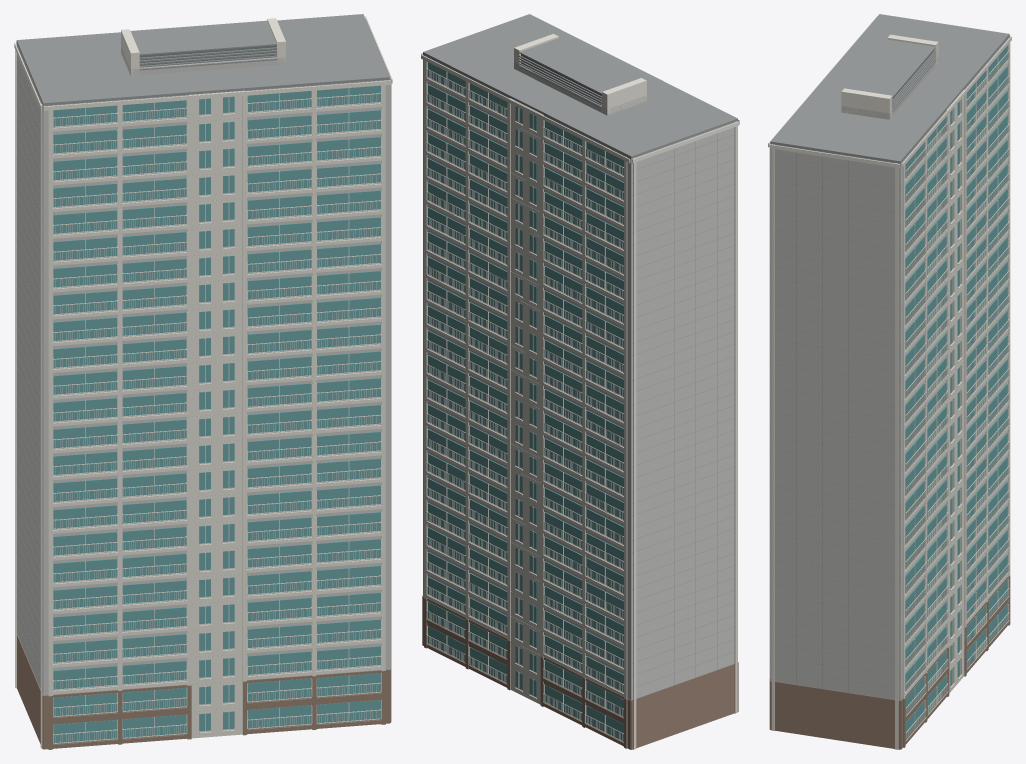
The model's file is bespoke-jamsil-els-109.glb.
The picture shows the model from 3 angles, left to right: view 1: azimuth 30°, elevation 25°; view 2: azimuth 150°, elevation 25°; view 3: azimuth 270°, elevation 25°; orthographic projection. The views are drawn at different scales.
Parts seen in each view (by area): view 1: Els109_editable_Els109_turquoise_balcony_glazing002, Els109_editable_Els109_light_grey_solid_wall002, Els109_white_exact_chunk_2, Els109_white_exact_chunk_3, Els109_white_exact_chunk_1, Els109_editable_Els109_modest_grey_flat_roof_caps002, Els109_editable_Els109_muted_ground_wall002, Els109_editable_Els109_narrow_charcoal_service_strips002; view 2: Els109_editable_Els109_light_grey_solid_wall002, Els109_editable_Els109_turquoise_balcony_glazing002, Els109_white_exact_chunk_0, Els109_white_exact_chunk_1, Els109_editable_Els109_modest_grey_flat_roof_caps002, Els109_editable_Els109_muted_ground_wall002, Els109_white_exact_chunk_3, Els109_editable_Els109_narrow_charcoal_service_strips002; view 3: Els109_editable_Els109_light_grey_solid_wall002, Els109_editable_Els109_turquoise_balcony_glazing002, Els109_white_exact_chunk_0, Els109_editable_Els109_modest_grey_flat_roof_caps002, Els109_white_exact_chunk_1, Els109_editable_Els109_muted_ground_wall002, Els109_white_exact_chunk_3.
Part boxes in pixels (x1,y1,x2,y2): Els109_editable_Els109_turquoise_balcony_glazing002: [53, 85, 380, 743]; Els109_editable_Els109_light_grey_solid_wall002: [16, 43, 390, 711]; Els109_white_exact_chunk_2: [48, 95, 312, 738]; Els109_white_exact_chunk_3: [43, 16, 392, 734]; Els109_white_exact_chunk_1: [14, 42, 244, 748]; Els109_editable_Els109_modest_grey_flat_roof_caps002: [16, 14, 390, 689]; Els109_editable_Els109_muted_ground_wall002: [17, 633, 390, 749]; Els109_editable_Els109_narrow_charcoal_service_strips002: [139, 45, 276, 65]; Els109_editable_Els109_light_grey_solid_wall002: [423, 54, 737, 700]; Els109_editable_Els109_turquoise_balcony_glazing002: [428, 62, 623, 741]; Els109_white_exact_chunk_0: [424, 56, 582, 721]; Els109_white_exact_chunk_1: [421, 55, 739, 749]; Els109_editable_Els109_modest_grey_flat_roof_caps002: [423, 14, 737, 700]; Els109_editable_Els109_muted_ground_wall002: [422, 595, 738, 749]; Els109_white_exact_chunk_3: [421, 34, 739, 123]; Els109_editable_Els109_narrow_charcoal_service_strips002: [521, 54, 601, 103]; Els109_editable_Els109_light_grey_solid_wall002: [770, 36, 1009, 700]; Els109_editable_Els109_turquoise_balcony_glazing002: [905, 45, 1007, 738]; Els109_white_exact_chunk_0: [903, 90, 987, 740]; Els109_editable_Els109_modest_grey_flat_roof_caps002: [770, 14, 1009, 700]; Els109_white_exact_chunk_1: [901, 35, 1011, 673]; Els109_editable_Els109_muted_ground_wall002: [769, 575, 1010, 749]; Els109_white_exact_chunk_3: [768, 16, 938, 749].
Size of the model in its own units: 34.44 by 65.55 by 23.77.
